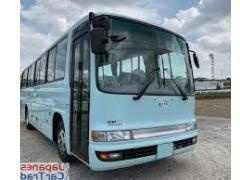bus: (20, 9, 201, 173)
